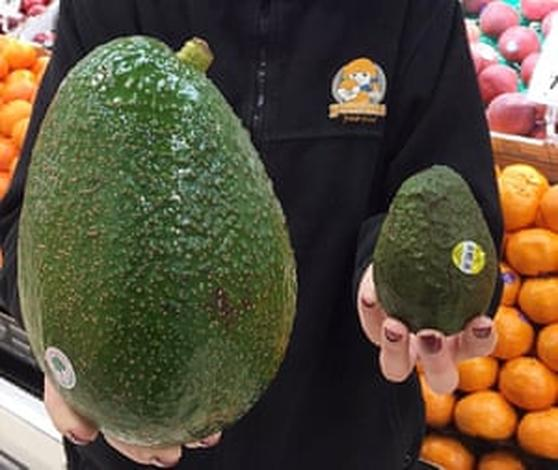avocado: (19, 34, 301, 447), (377, 165, 499, 330)
